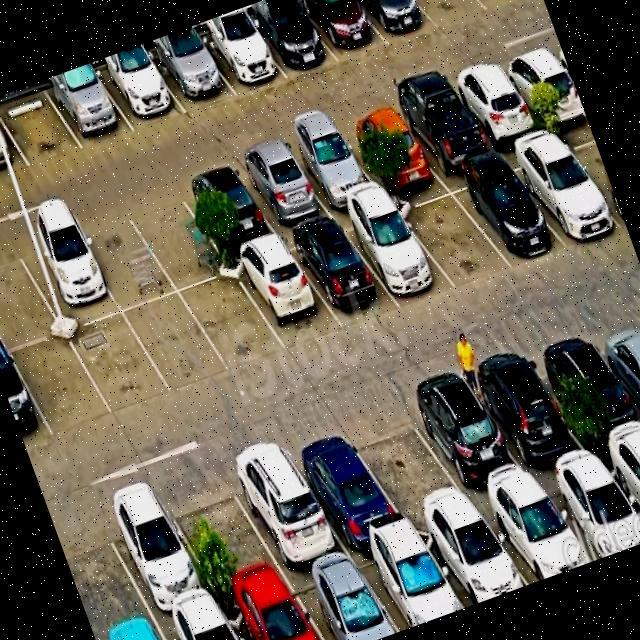Car: (236, 464, 344, 597), (418, 387, 520, 517), (114, 511, 218, 638), (308, 444, 406, 575), (544, 332, 640, 462), (481, 364, 577, 490), (525, 132, 619, 258), (354, 195, 446, 314), (467, 155, 557, 274), (19, 216, 112, 330), (405, 75, 493, 194), (346, 91, 434, 208), (299, 212, 386, 330), (238, 240, 328, 350), (458, 60, 544, 174), (508, 38, 593, 152), (181, 159, 271, 266), (438, 516, 530, 608), (372, 537, 460, 632), (502, 490, 590, 585), (292, 121, 373, 224), (49, 60, 128, 156), (243, 141, 320, 239), (306, 562, 397, 640), (567, 466, 640, 561), (204, 5, 276, 98), (101, 42, 175, 132), (154, 23, 226, 112), (250, 0, 328, 81), (235, 587, 327, 640), (302, 0, 377, 62), (0, 353, 46, 446), (605, 318, 640, 440), (352, 0, 424, 43), (174, 615, 260, 640), (0, 98, 17, 182)
Vacant: (178, 484, 278, 613), (362, 418, 464, 542), (59, 522, 152, 640), (408, 184, 502, 296), (82, 201, 168, 315), (17, 333, 106, 440), (72, 306, 160, 414), (137, 178, 223, 288), (185, 268, 270, 372), (130, 288, 212, 387), (0, 78, 77, 173), (0, 251, 54, 354), (393, 0, 471, 28)
